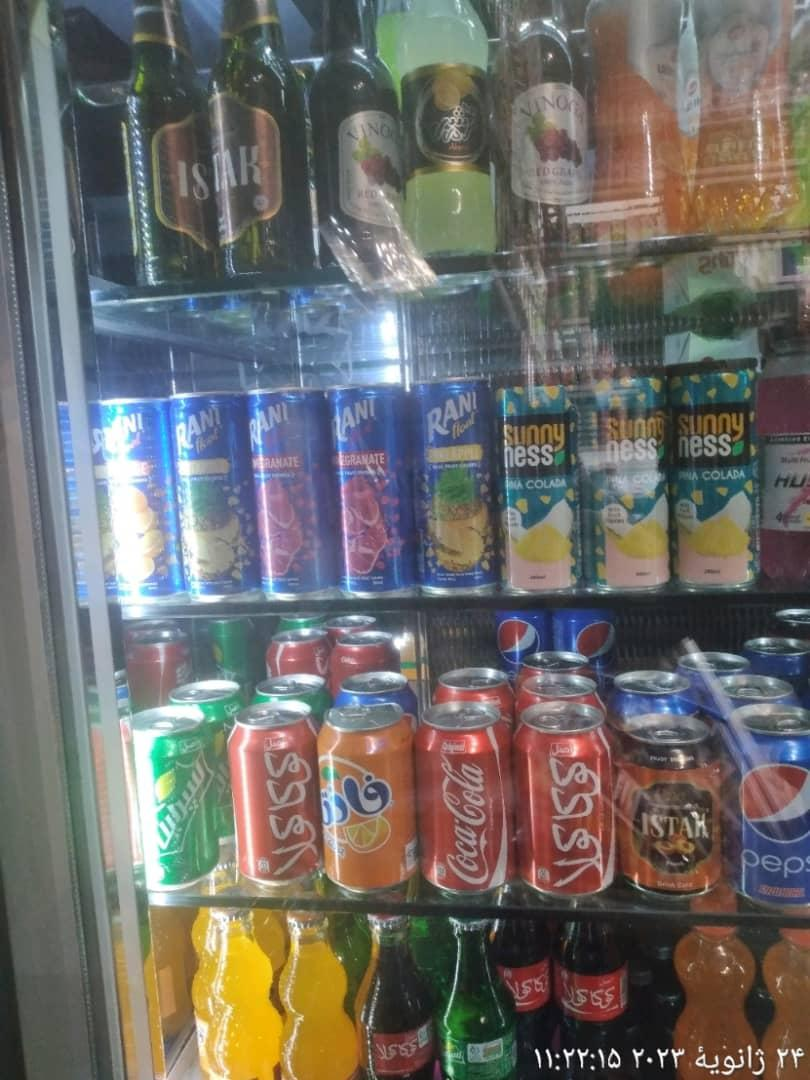Pineapple: (418, 390, 500, 581), (176, 404, 251, 587)
